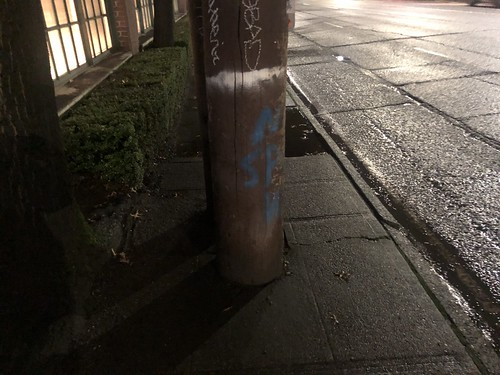graffiti: (204, 1, 278, 282)
street: (292, 2, 500, 304)
